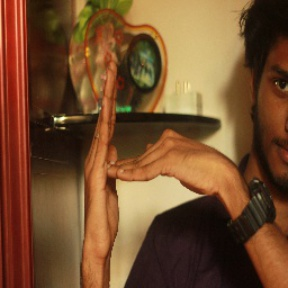Z: (71, 58, 229, 254)
